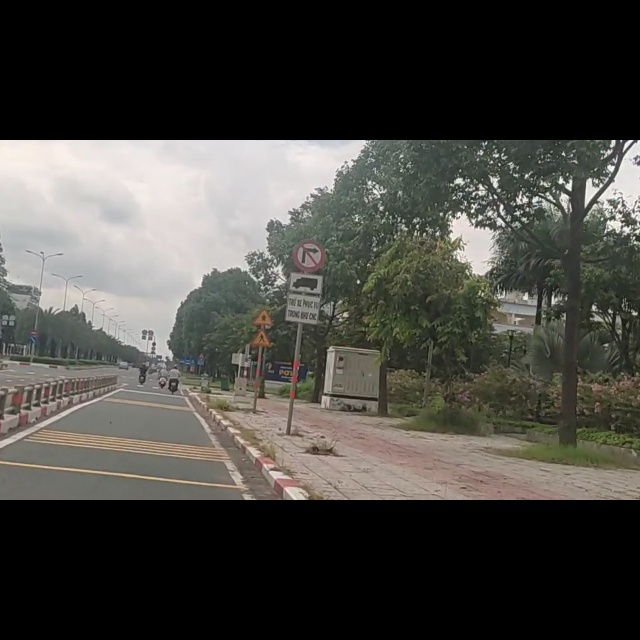bien_nguy_hiem: (284, 233, 323, 328), (289, 172, 325, 233), (249, 335, 272, 367), (253, 299, 275, 329)
